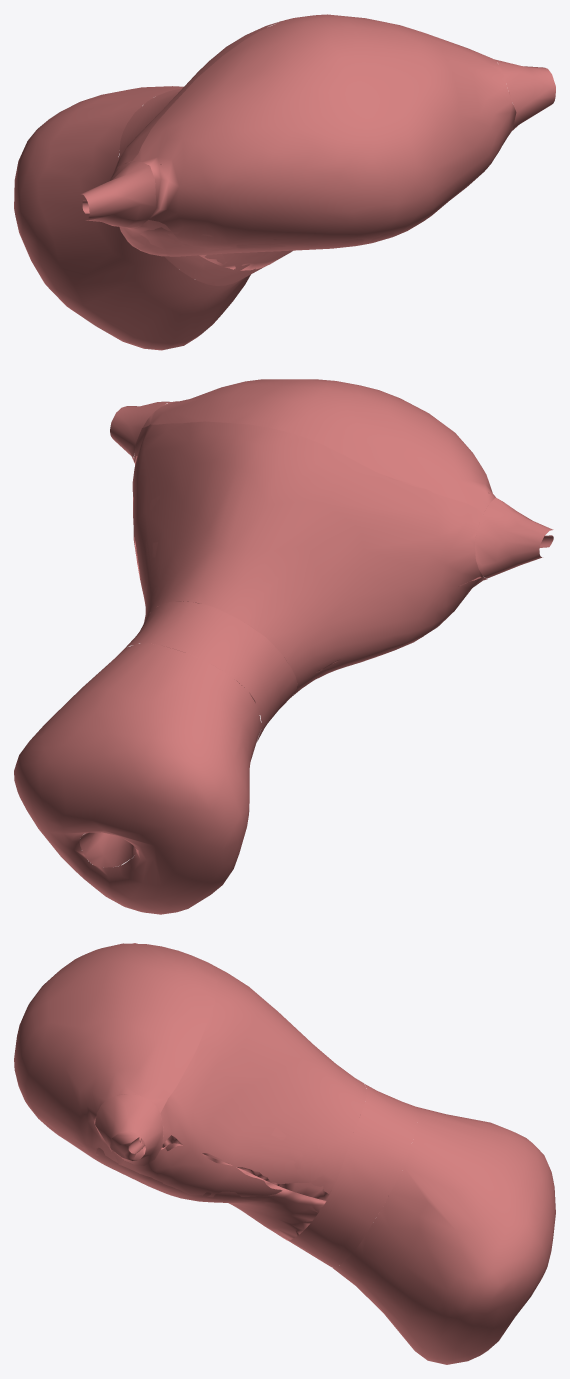
Rendered from vh_f_uterus.glb.
3 renders of one model, top to bottom at view 1: azimuth 30°, elevation 25°; view 2: azimuth 150°, elevation 25°; view 3: azimuth 270°, elevation 25°, orthographic. The views are drawn at different scales.
Parts seen in each view (by area): view 1: VH_F_fundus_of_uterus, VH_F_cervix, VH_F_cornua, VH_F_posterior_wall_of_uterus, VH_F_lower_uterine_segment, VH_F_body_of_uterus; view 2: VH_F_body_of_uterus, VH_F_cervix, VH_F_fundus_of_uterus, VH_F_lower_uterine_segment, VH_F_cornua, VH_F_external_cervical_os, VH_F_anterior_wall_of_uterus; view 3: VH_F_cervix, VH_F_body_of_uterus, VH_F_fundus_of_uterus, VH_F_lower_uterine_segment, VH_F_posterior_wall_of_uterus, VH_F_cornua, VH_F_anterior_wall_of_uterus.
Boxes of the visible parts, <box> form: VH_F_fundus_of_uterus: <box>132,14,516,250</box>; VH_F_cervix: <box>14,86,250,350</box>; VH_F_cornua: <box>81,59,555,228</box>; VH_F_posterior_wall_of_uterus: <box>130,145,501,270</box>; VH_F_lower_uterine_segment: <box>119,88,263,285</box>; VH_F_body_of_uterus: <box>113,19,511,270</box>; VH_F_body_of_uterus: <box>132,421,487,697</box>; VH_F_cervix: <box>14,643,261,914</box>; VH_F_fundus_of_uterus: <box>142,379,495,514</box>; VH_F_lower_uterine_segment: <box>125,601,297,741</box>; VH_F_cornua: <box>110,401,553,578</box>; VH_F_external_cervical_os: <box>79,832,136,867</box>; VH_F_anterior_wall_of_uterus: <box>133,421,489,672</box>; VH_F_cervix: <box>333,1107,555,1364</box>; VH_F_body_of_uterus: <box>111,962,366,1222</box>; VH_F_fundus_of_uterus: <box>14,943,217,1163</box>; VH_F_lower_uterine_segment: <box>288,1083,419,1267</box>; VH_F_posterior_wall_of_uterus: <box>43,1122,326,1240</box>; VH_F_cornua: <box>95,943,163,1165</box>; VH_F_anterior_wall_of_uterus: <box>117,972,329,1200</box>.
Bounding box in the file's own units: 0.0525 × 0.047 × 0.0587.
